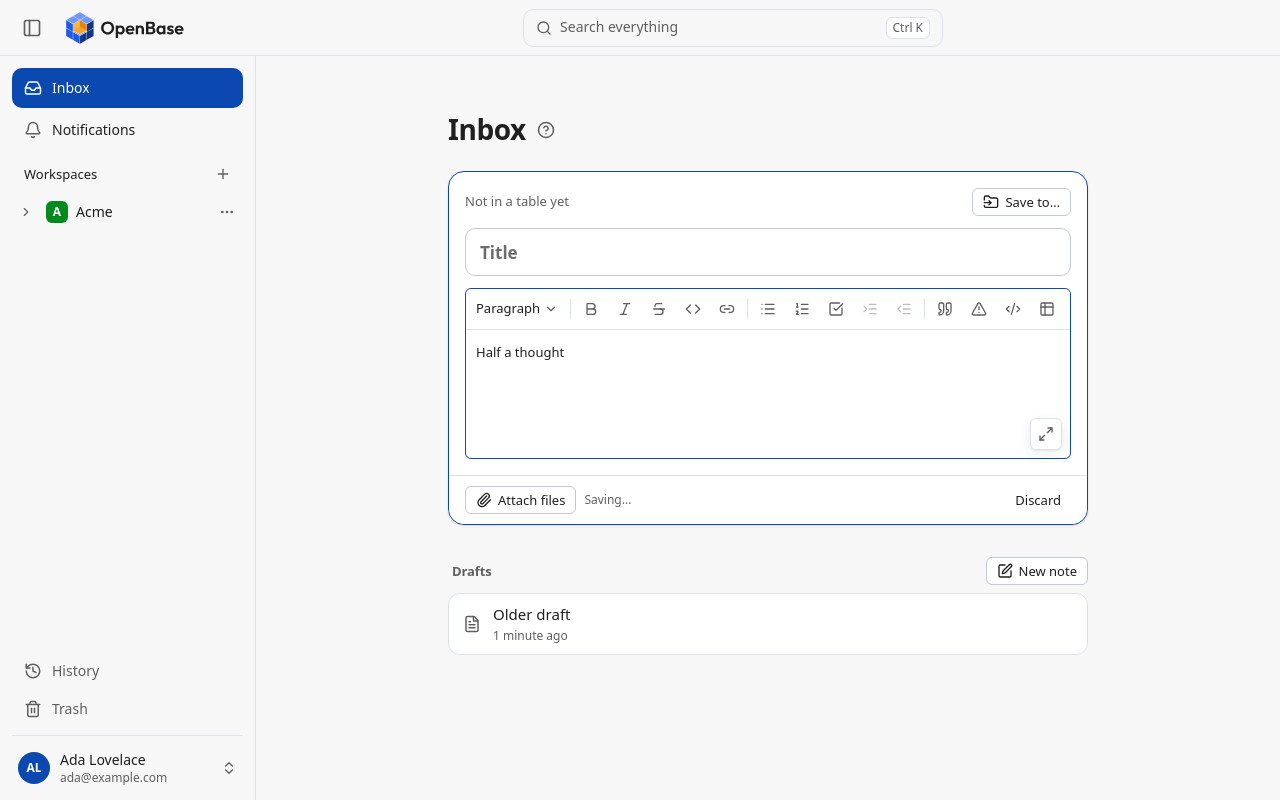
Test case: drafts: switching › stays on the text that could not be saved when another draft is tapped, and says so
The image size is (1280, 800).
Expected: the field named "Note" is shown, [476,343,564,361]
Click the button "Older draft 1 minute ago" at (532, 614), box [449,594,1087,654]
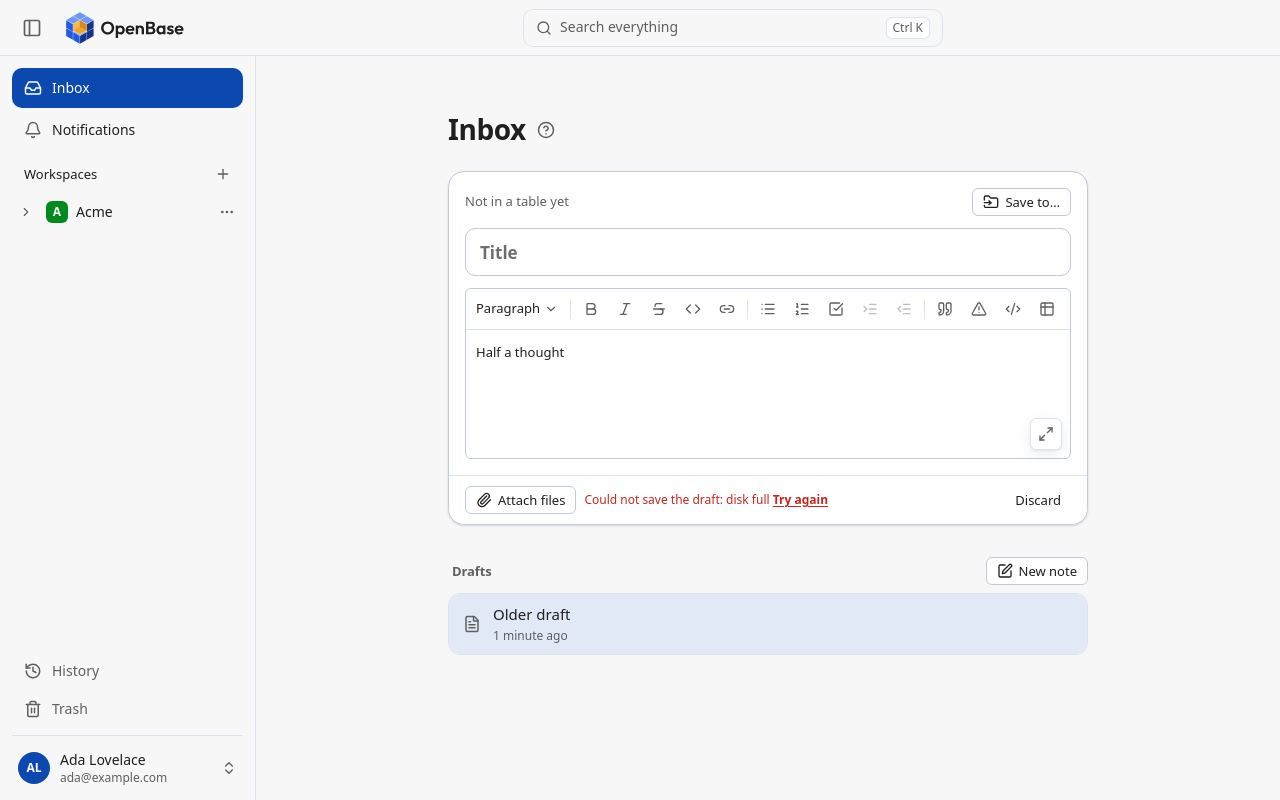
Expected: the text box labelled "Half a thought" is shown, [476,343,564,361]
Expected: the text "Could not save the draft: disk full Try again" is shown, [584,492,828,508]
Click the button "Try again" at (800, 500), box [773,492,828,508]
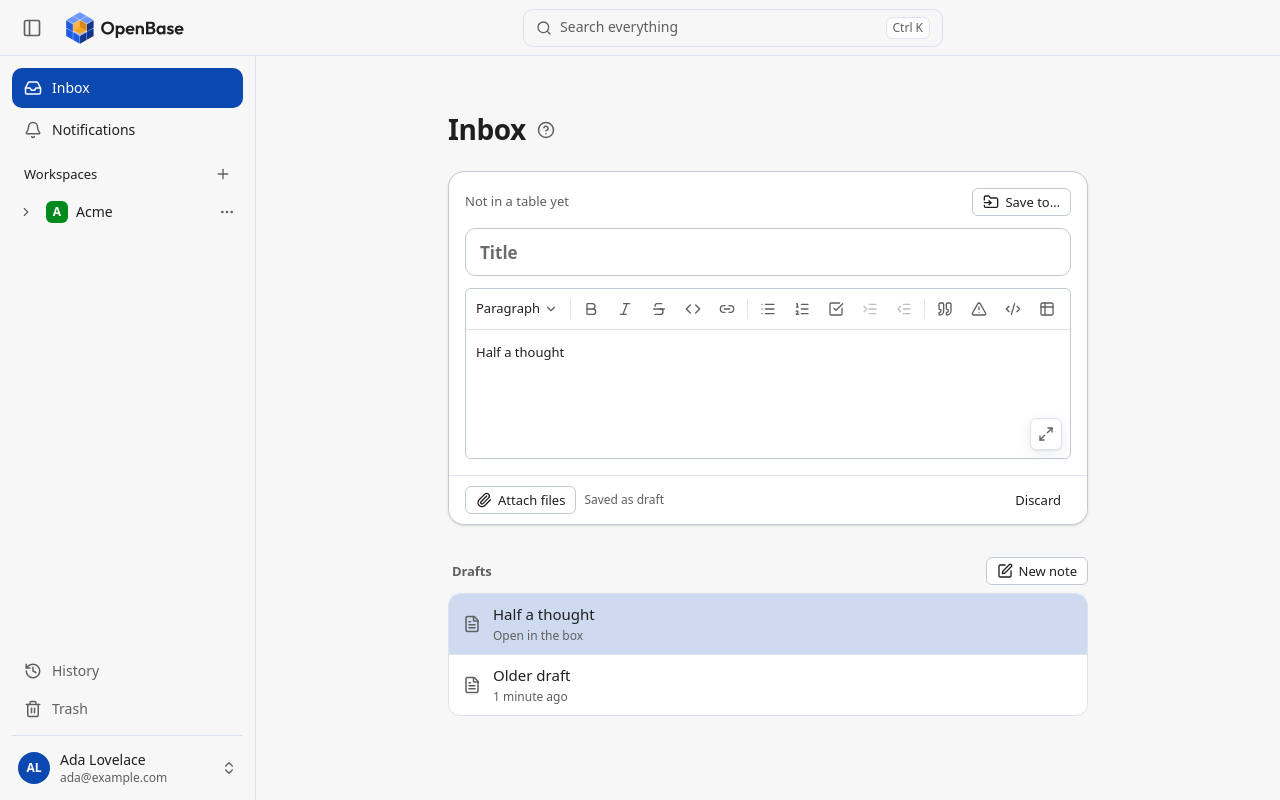
Expected: the text "Saved as draft" is shown, [584,492,664,508]
Click the button "Older draft 1 minute ago" at (532, 675), box [449,655,1087,715]
(page scrolled)
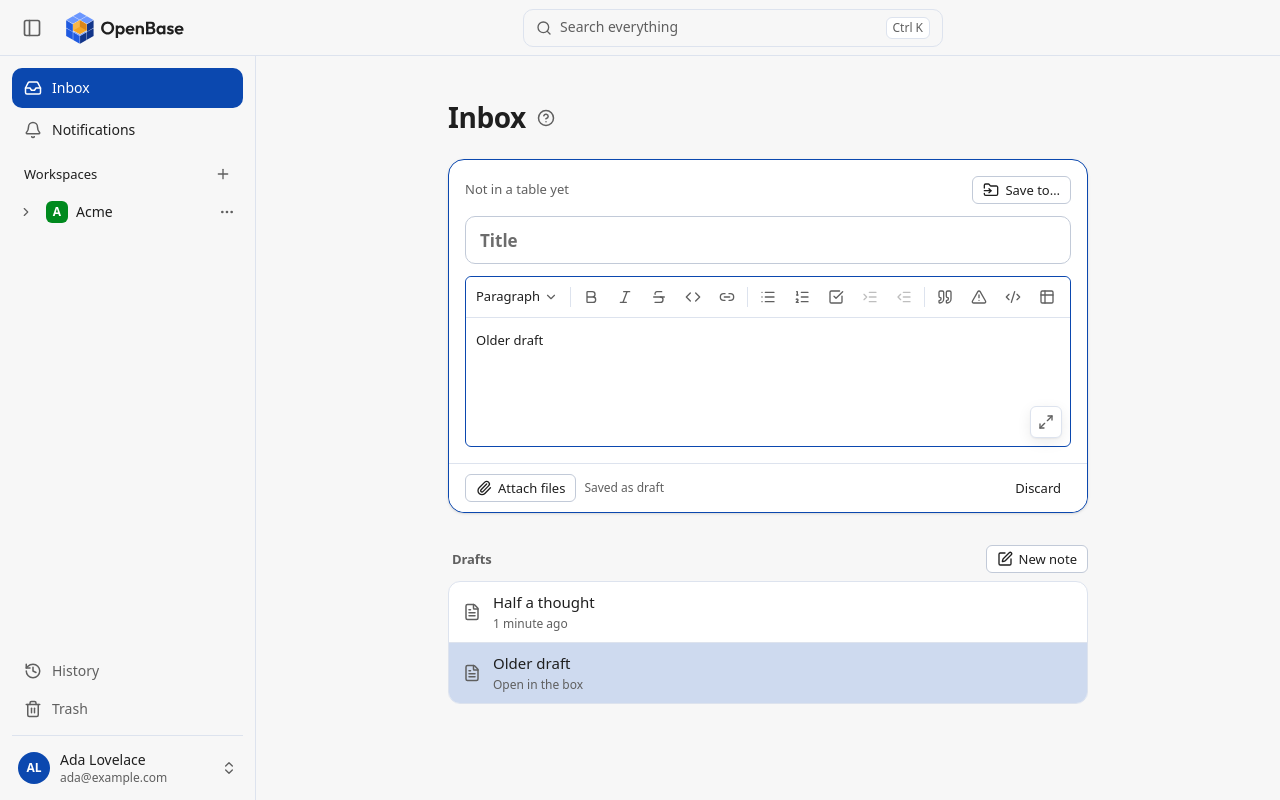
Expected: the text box labelled "Older draft" is shown, [476,331,543,349]
